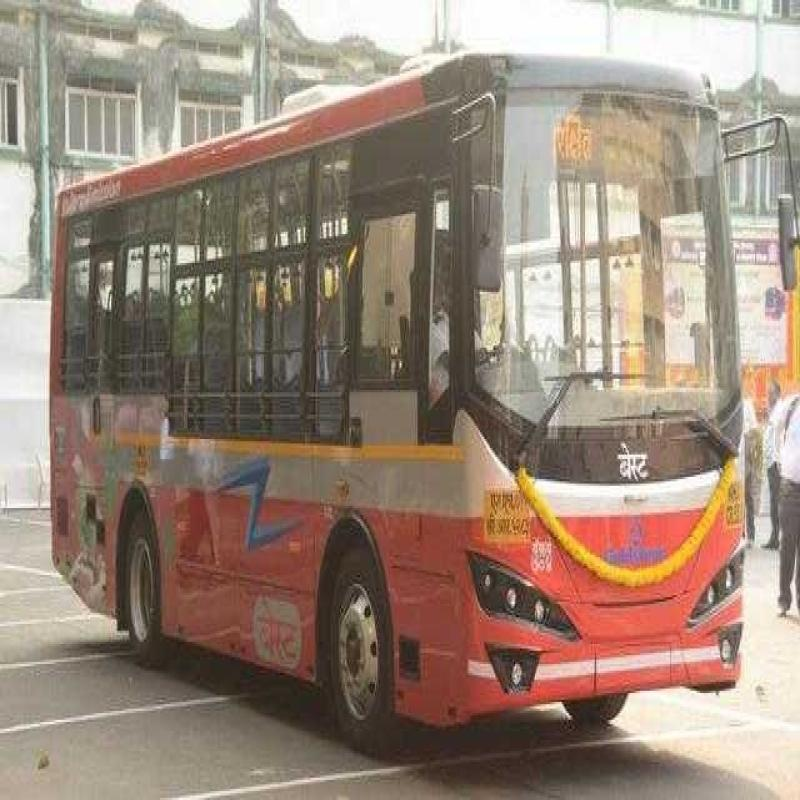bus: (41, 18, 758, 788)
